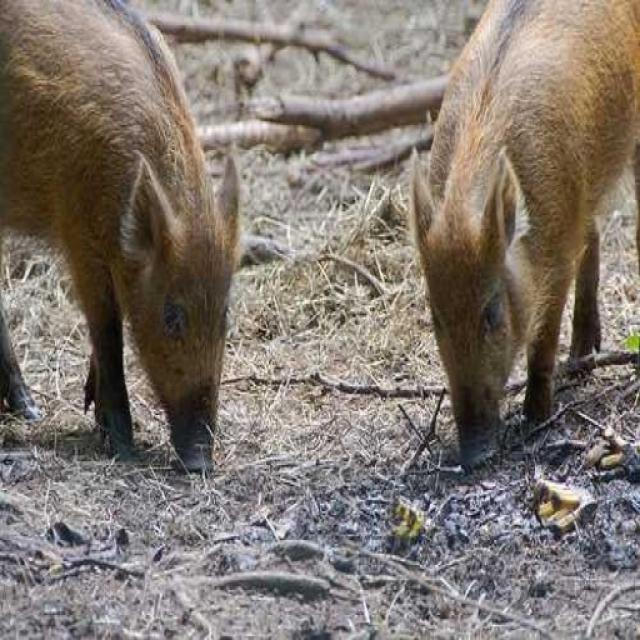pig: (355, 0, 640, 522), (0, 0, 281, 523)
